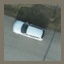car: (13, 20, 45, 42)
